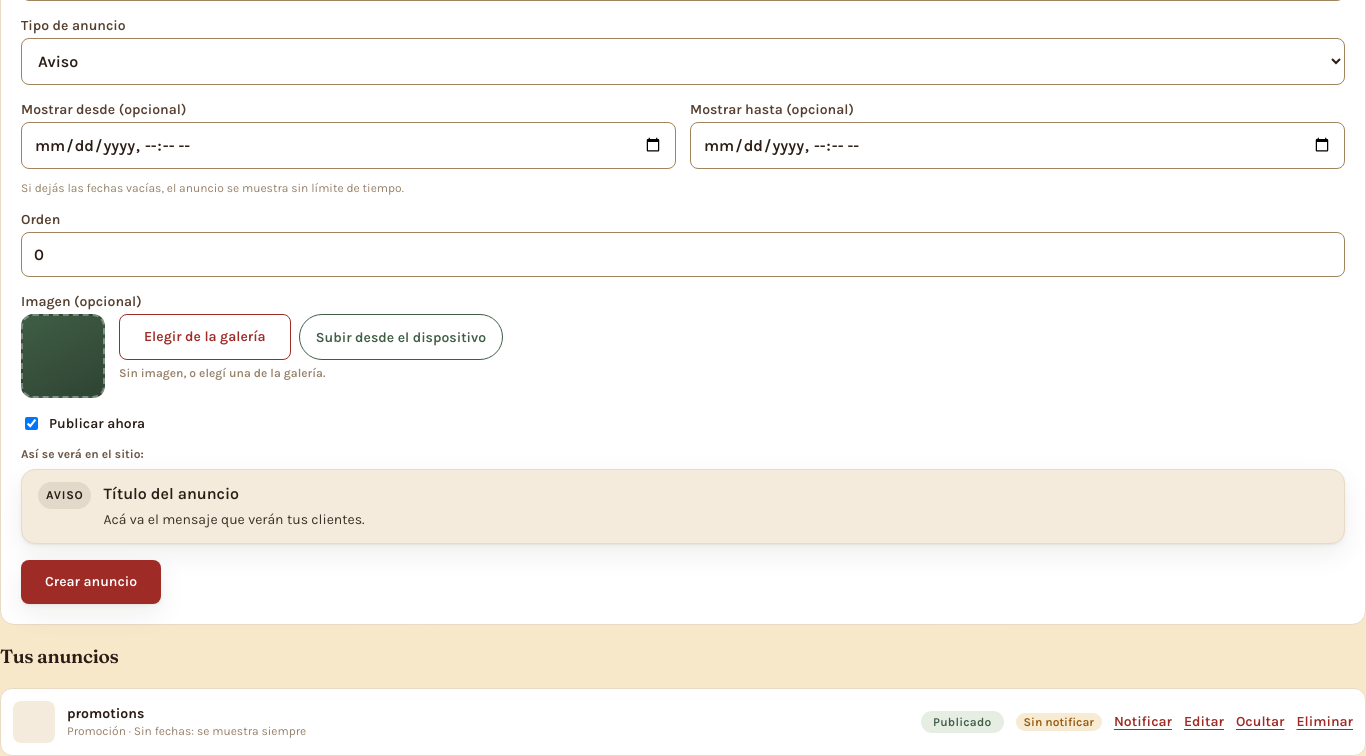
AnnouncementManager › avisa cuando el anuncio no se pudo eliminar
(page scrolled)
Expected: the text "promotions" is shown, [67,705,144,722]
Step 1. Click the button "Eliminar" → (1325,722), box [1296,713,1353,730]
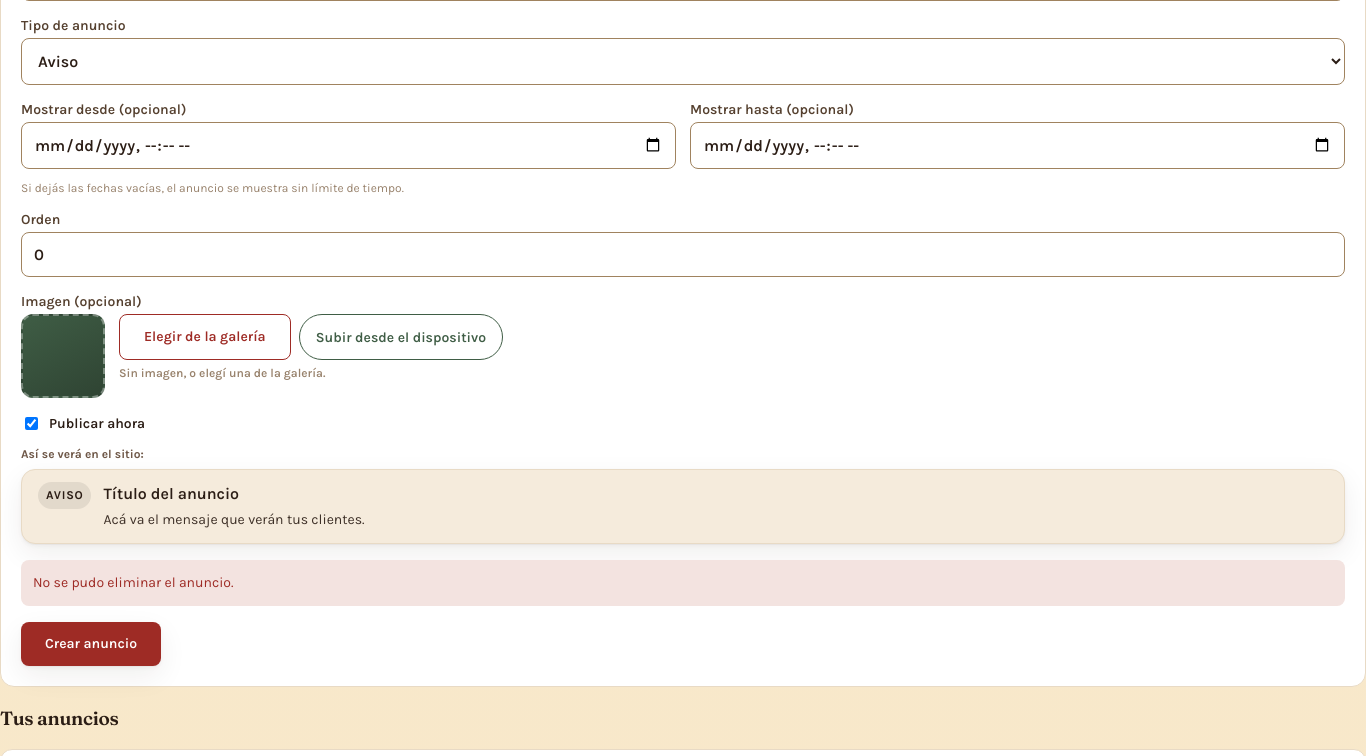
Expected: the text "No se pudo eliminar el anuncio." is shown, [21,560,1345,606]
